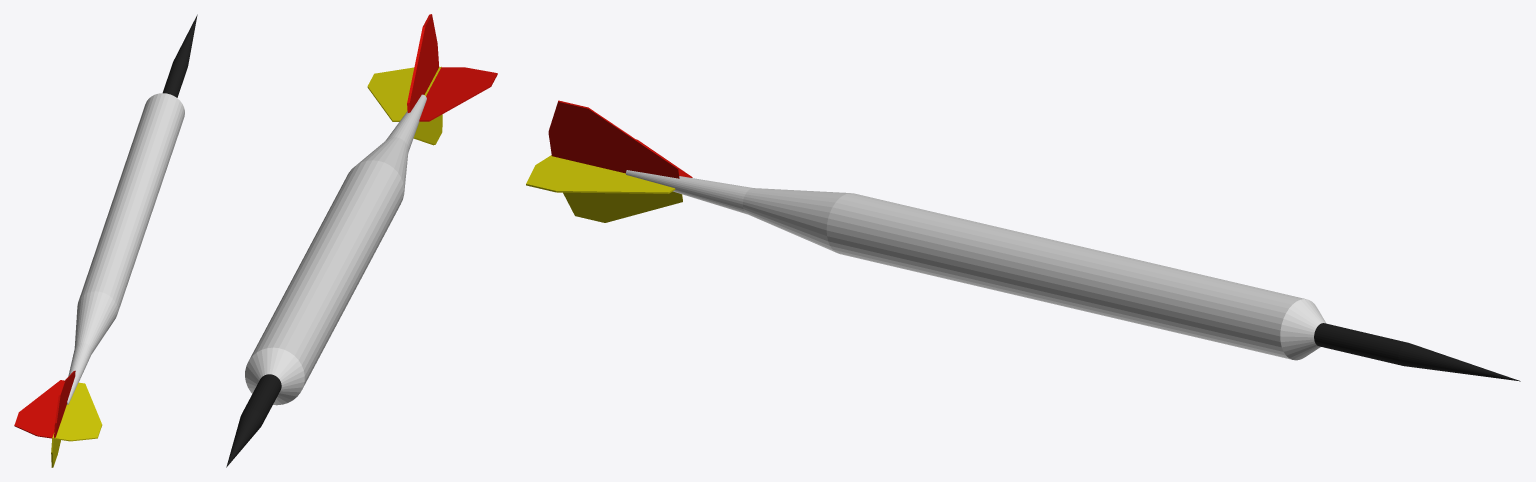
File: dart2.fbx
3 views of the same model, side by side, from view 1: azimuth 30°, elevation 25°; view 2: azimuth 210°, elevation 25°; view 3: azimuth 270°, elevation 25° (orthographic). The views are drawn at different scales.
Visible parts, largest first — view 1: Dart; view 2: Dart; view 3: Dart.
Part boxes in pixels (left/top/right/bottom): Dart: left=14, top=14, right=197, bottom=467; Dart: left=226, top=14, right=497, bottom=467; Dart: left=526, top=100, right=1520, bottom=381.
Size of the model in its own units: 1200 by 271 by 1408.
